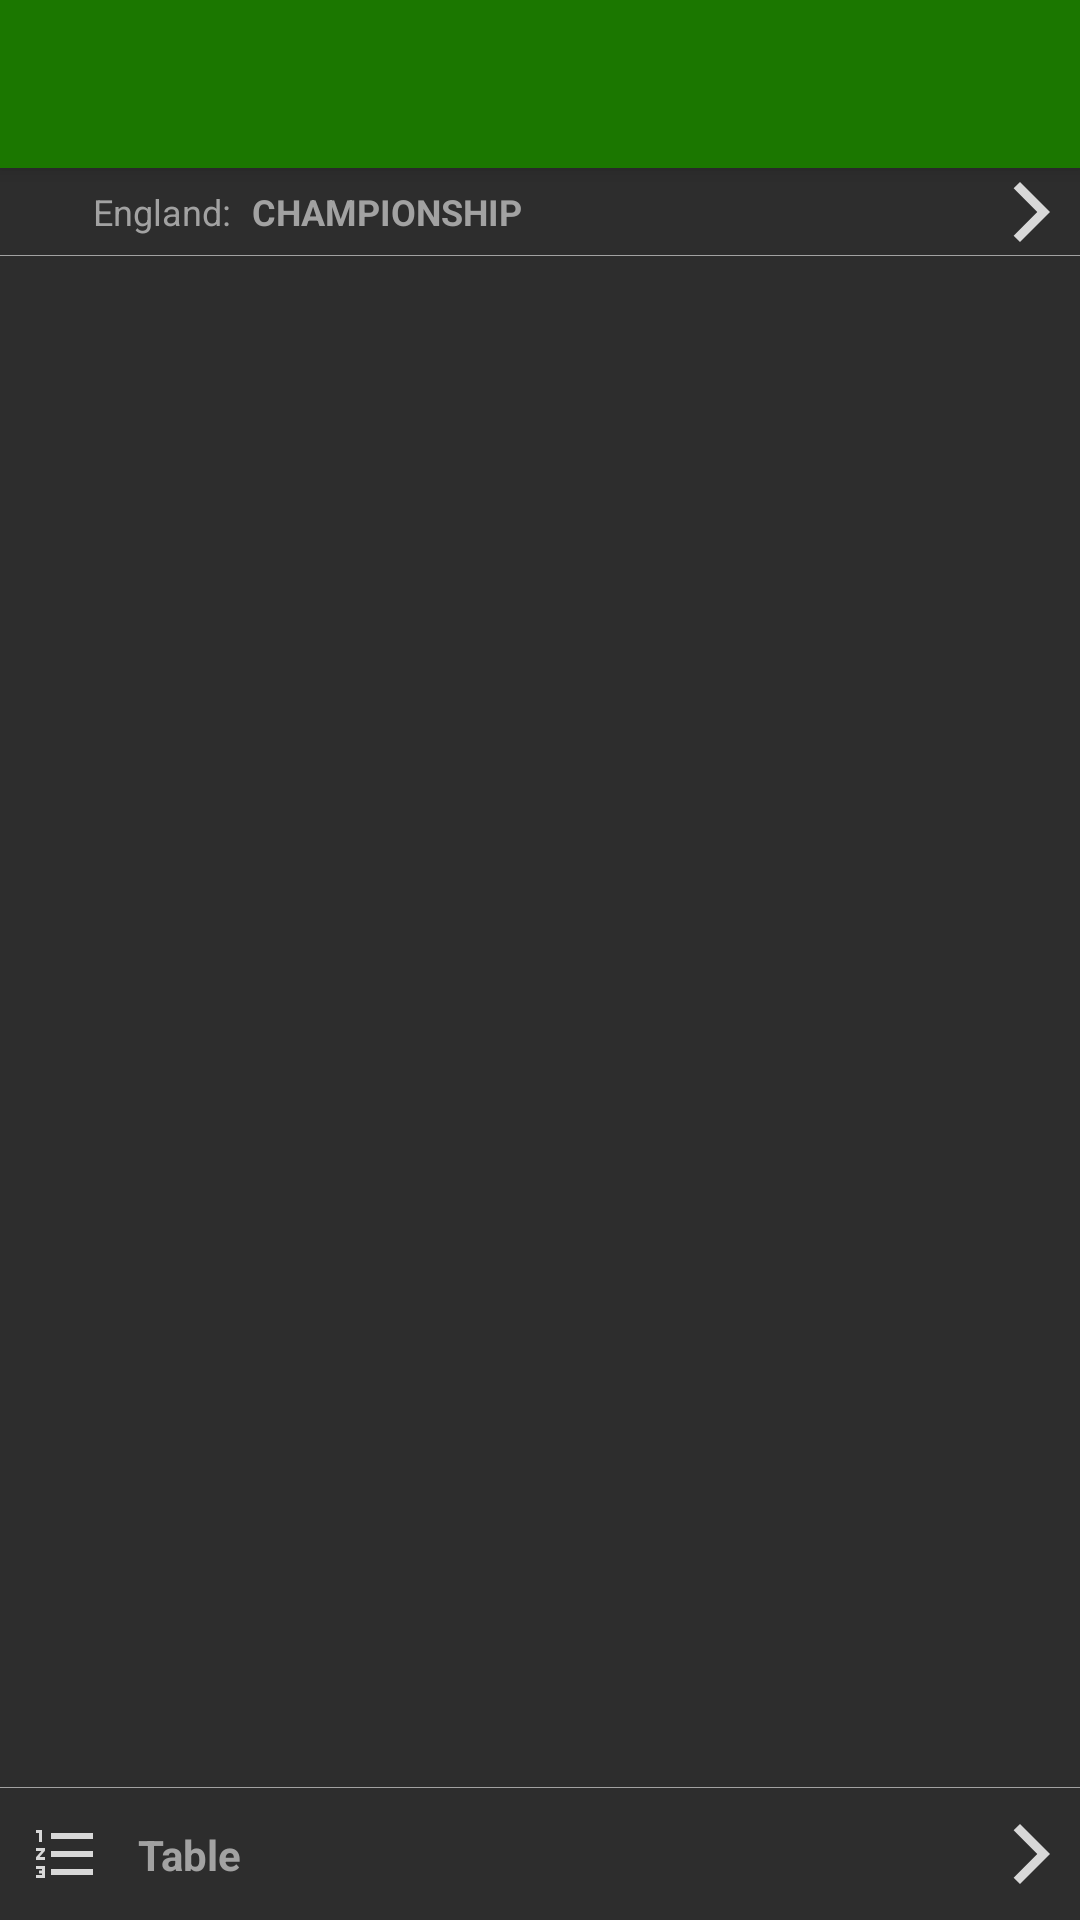

Named icons in this screenshot (1080 x 1920) and their bounding boxes, bbox=[x1, y1, x2, y2]:
arrow forward: bbox=[1014, 182, 1050, 242], bbox=[1014, 1824, 1050, 1884]
list numbered: bbox=[36, 1830, 93, 1878]
